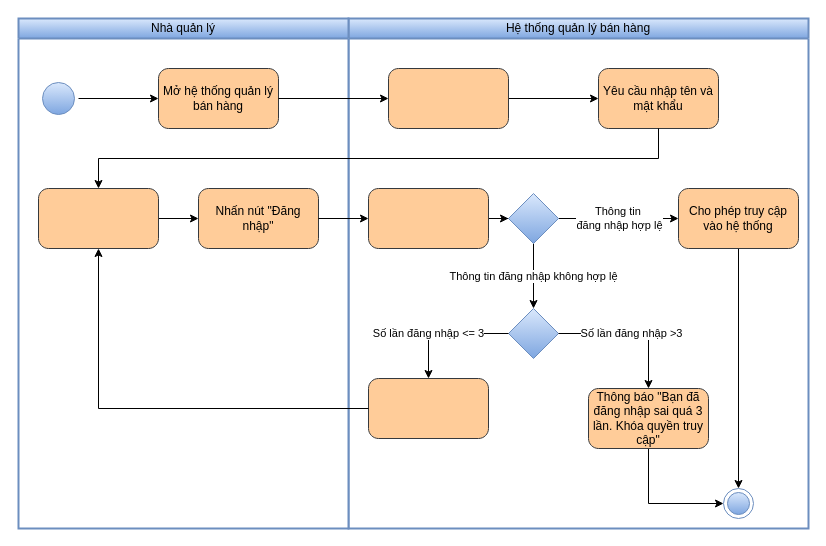
The diagram is 826 pixels wide and 546 high, and some of its shapes have lost their labels. Each missing label, with the centre of its shape:
Hiển thị giao diện đăng nhập: point 448,98
Nhập tên đăng nhập và mật khẩu: point 98,218
Thông báo "Đăng nhập sai, vui lòng thử lại": point 428,408
Xác thực thông tin: point 428,218
